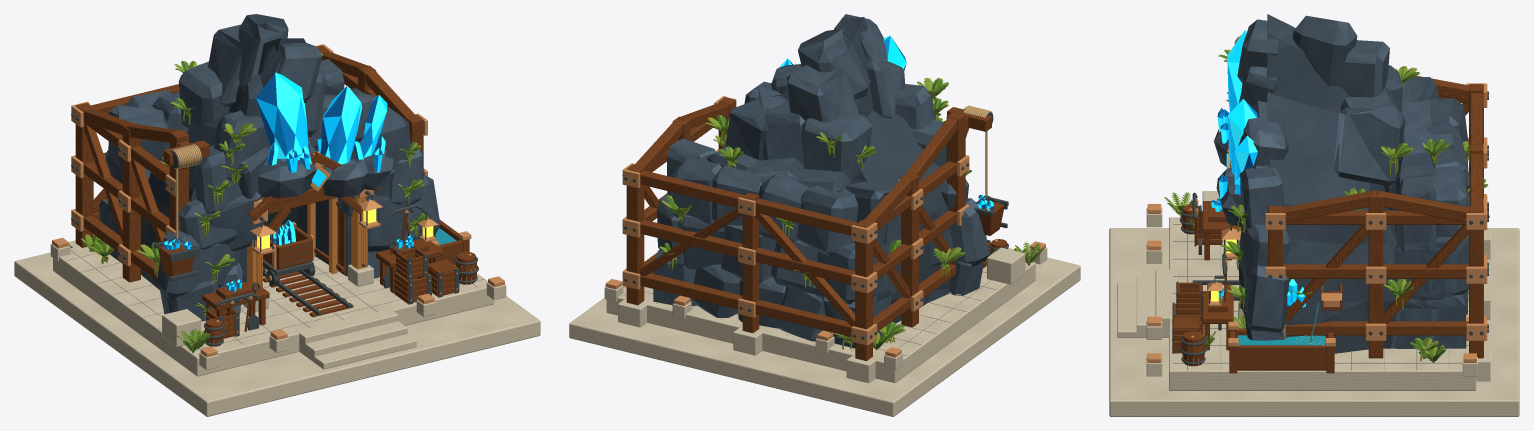
Rendered from vein-v27.glb.
3 views of the same model, side by side, from view 1: azimuth 30°, elevation 25°; view 2: azimuth 150°, elevation 25°; view 3: azimuth 270°, elevation 25° (orthographic). The views are drawn at different scales.
Visible parts, largest first — view 1: GEO-export-MAT-vein-ivory.018, GEO-export-MAT-vein-slate-1.018, GEO-export-MAT-vein-wood-edge.018, GEO-export-MAT-vein-wood.018, GEO-export-MAT-vein-slate-0.018, GEO-export-MAT-vein-iron.018, GEO-export-MAT-vein-copper.018, GEO-export-MAT-vein-crystal-2.018, GEO-export-MAT-vein-slate-2.018, GEO-export-MAT-vein-crystal-1.018, GEO-export-MAT-vein-slate-3.018, GEO-export-MAT-vein-v18-tunnel-warm-wood.012 (+8 smaller); view 2: GEO-export-MAT-vein-slate-1.018, GEO-export-MAT-vein-ivory.018, GEO-export-MAT-vein-wood-edge.018, GEO-export-MAT-vein-wood.018, GEO-export-MAT-vein-slate-0.018, GEO-export-MAT-vein-copper.018, GEO-export-MAT-vein-slate-2.018, GEO-export-MAT-vein-fern-leaf.018, GEO-export-MAT-vein-fern-tip.018, GEO-export-MAT-vein-slate-3.018, GEO-export-MAT-vein-fern-lime.018, GEO-export-MAT-vein-iron.018 (+1 smaller); view 3: GEO-export-MAT-vein-ivory.018, GEO-export-MAT-vein-slate-1.018, GEO-export-MAT-vein-slate-0.018, GEO-export-MAT-vein-wood-edge.018, GEO-export-MAT-vein-wood.018, GEO-export-MAT-vein-copper.018, GEO-export-MAT-vein-slate-2.018, GEO-export-MAT-vein-fern-leaf.018, GEO-export-MAT-vein-crystal-1.018, GEO-export-MAT-vein-slate-3.018, GEO-export-MAT-vein-iron.018, GEO-export-MAT-vein-crystal-2.018 (+5 smaller).
Part boxes in pixels (<box>): GEO-export-MAT-vein-ivory.018: <box>14,240,540,416</box>; GEO-export-MAT-vein-slate-1.018: <box>102,14,440,321</box>; GEO-export-MAT-vein-wood-edge.018: <box>83,51,477,346</box>; GEO-export-MAT-vein-wood.018: <box>75,45,475,332</box>; GEO-export-MAT-vein-slate-0.018: <box>121,14,434,312</box>; GEO-export-MAT-vein-iron.018: <box>71,113,478,345</box>; GEO-export-MAT-vein-copper.018: <box>52,44,504,357</box>; GEO-export-MAT-vein-crystal-2.018: <box>164,73,411,286</box>; GEO-export-MAT-vein-slate-2.018: <box>99,30,436,313</box>; GEO-export-MAT-vein-crystal-1.018: <box>164,72,413,291</box>; GEO-export-MAT-vein-slate-3.018: <box>99,23,439,288</box>; GEO-export-MAT-vein-v18-tunnel-warm-wood.012: <box>247,164,367,287</box>; GEO-export-MAT-vein-slate-1.018: <box>653,14,989,348</box>; GEO-export-MAT-vein-ivory.018: <box>569,247,1080,416</box>; GEO-export-MAT-vein-wood-edge.018: <box>635,102,1007,336</box>; GEO-export-MAT-vein-wood.018: <box>626,97,1006,360</box>; GEO-export-MAT-vein-slate-0.018: <box>657,17,988,328</box>; GEO-export-MAT-vein-copper.018: <box>605,96,1045,357</box>; GEO-export-MAT-vein-slate-2.018: <box>671,27,983,341</box>; GEO-export-MAT-vein-fern-leaf.018: <box>661,78,1044,350</box>; GEO-export-MAT-vein-fern-tip.018: <box>659,78,1039,346</box>; GEO-export-MAT-vein-slate-3.018: <box>678,41,969,325</box>; GEO-export-MAT-vein-fern-lime.018: <box>652,78,1043,348</box>; GEO-export-MAT-vein-iron.018: <box>622,107,1008,339</box>; GEO-export-MAT-vein-ivory.018: <box>1109,191,1519,416</box>; GEO-export-MAT-vein-slate-1.018: <box>1214,19,1469,348</box>; GEO-export-MAT-vein-slate-0.018: <box>1214,14,1469,353</box>; GEO-export-MAT-vein-wood-edge.018: <box>1172,76,1482,369</box>; GEO-export-MAT-vein-wood.018: <box>1173,84,1483,373</box>; GEO-export-MAT-vein-copper.018: <box>1147,83,1487,362</box>; GEO-export-MAT-vein-slate-2.018: <box>1214,39,1466,348</box>; GEO-export-MAT-vein-fern-leaf.018: <box>1164,49,1489,362</box>; GEO-export-MAT-vein-crystal-1.018: <box>1214,30,1305,307</box>; GEO-export-MAT-vein-slate-3.018: <box>1218,16,1468,329</box>; GEO-export-MAT-vein-iron.018: <box>1172,91,1488,364</box>; GEO-export-MAT-vein-crystal-2.018: <box>1211,30,1304,298</box>.
Bounding box in the file's own units: 10 × 8.28 × 10.
27 materials, 7 textured.
